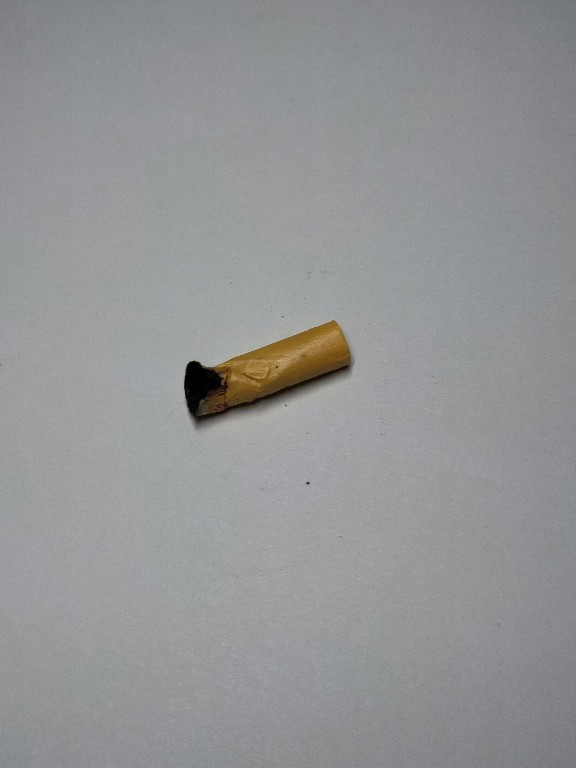cigarette: (182, 316, 358, 426)
